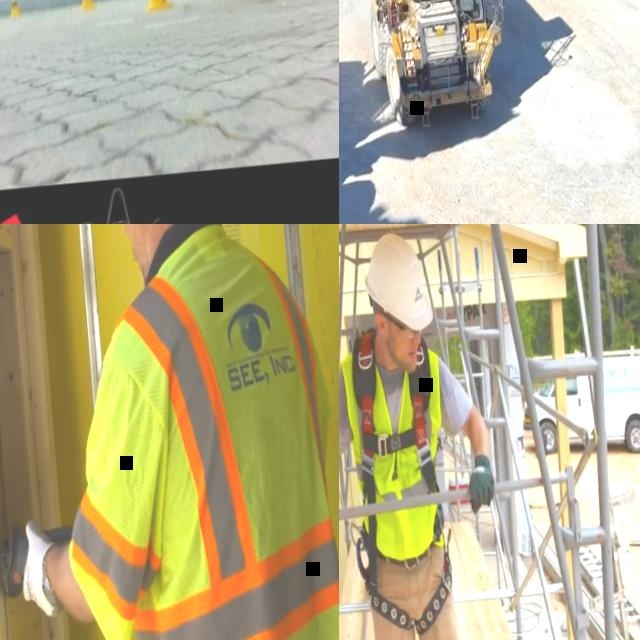NO-Hardhat: (360, 229, 436, 338)
NO-Mask: (122, 224, 159, 285), (393, 337, 419, 370)
NO-Safety Vest: (340, 346, 455, 559)
Person: (0, 224, 339, 640), (339, 225, 516, 640)
Safety Cone: (141, 0, 172, 10), (7, 0, 19, 17), (76, 0, 94, 9)
Safety Vest: (45, 227, 339, 640)
machinery: (348, 0, 522, 145)
